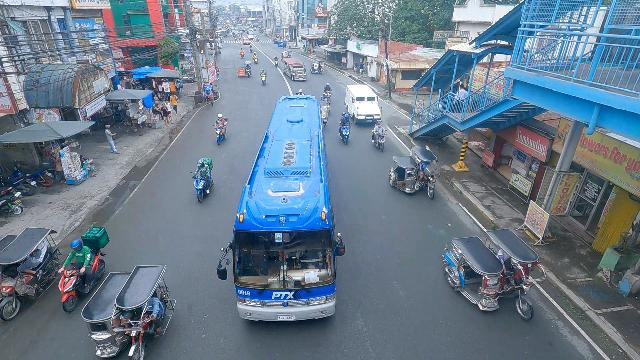bus: (219, 96, 338, 330)
car: (242, 38, 251, 45)
jeepney: (283, 58, 307, 82), (215, 28, 228, 38)
motorcycle: (191, 159, 213, 202), (337, 118, 352, 146), (215, 114, 228, 146), (370, 127, 386, 153), (322, 82, 333, 103), (322, 95, 332, 116), (259, 69, 267, 86), (294, 88, 307, 97), (273, 56, 279, 68), (253, 52, 259, 64), (239, 47, 244, 58), (234, 33, 238, 42), (249, 45, 253, 52)
van: (344, 84, 380, 126)
